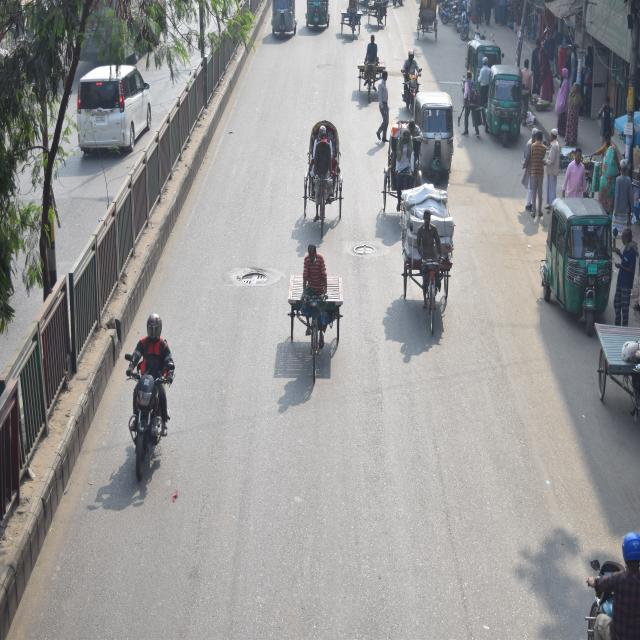microbus: (74, 58, 155, 154)
motorbike: (114, 364, 174, 488), (400, 63, 422, 115)
